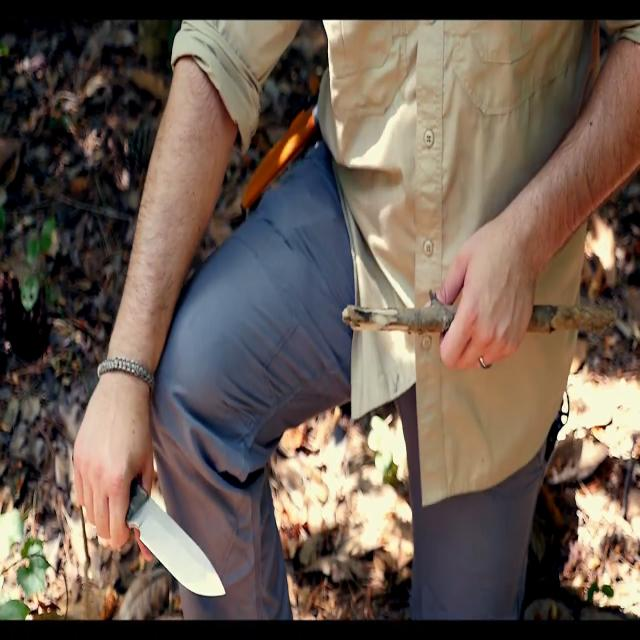knife: (133, 484, 231, 613)
